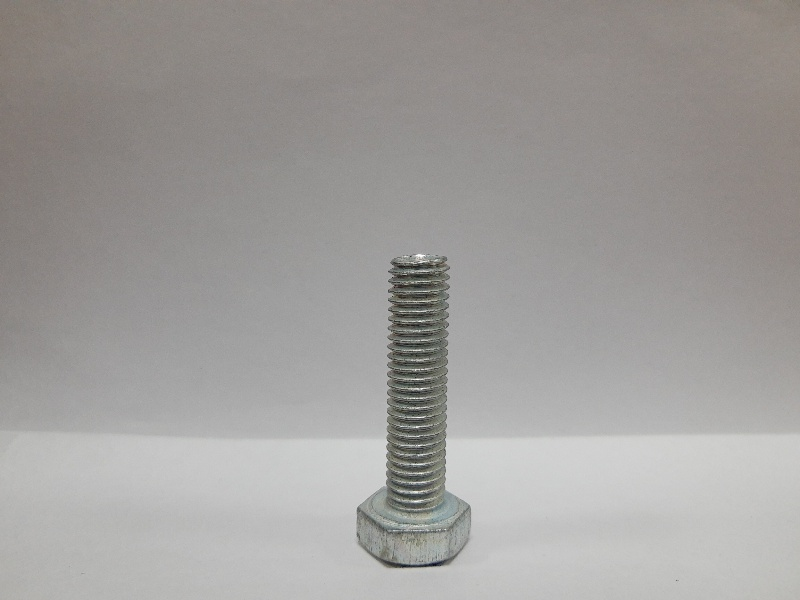pf: (350, 247, 485, 572)
